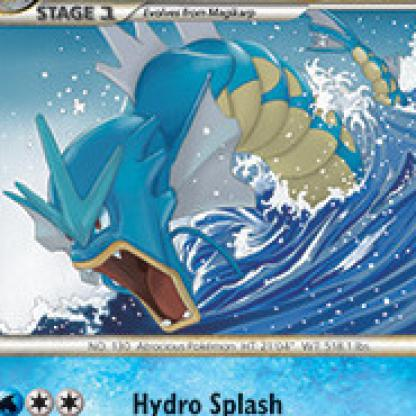Gyarados: (1, 24, 415, 339)
